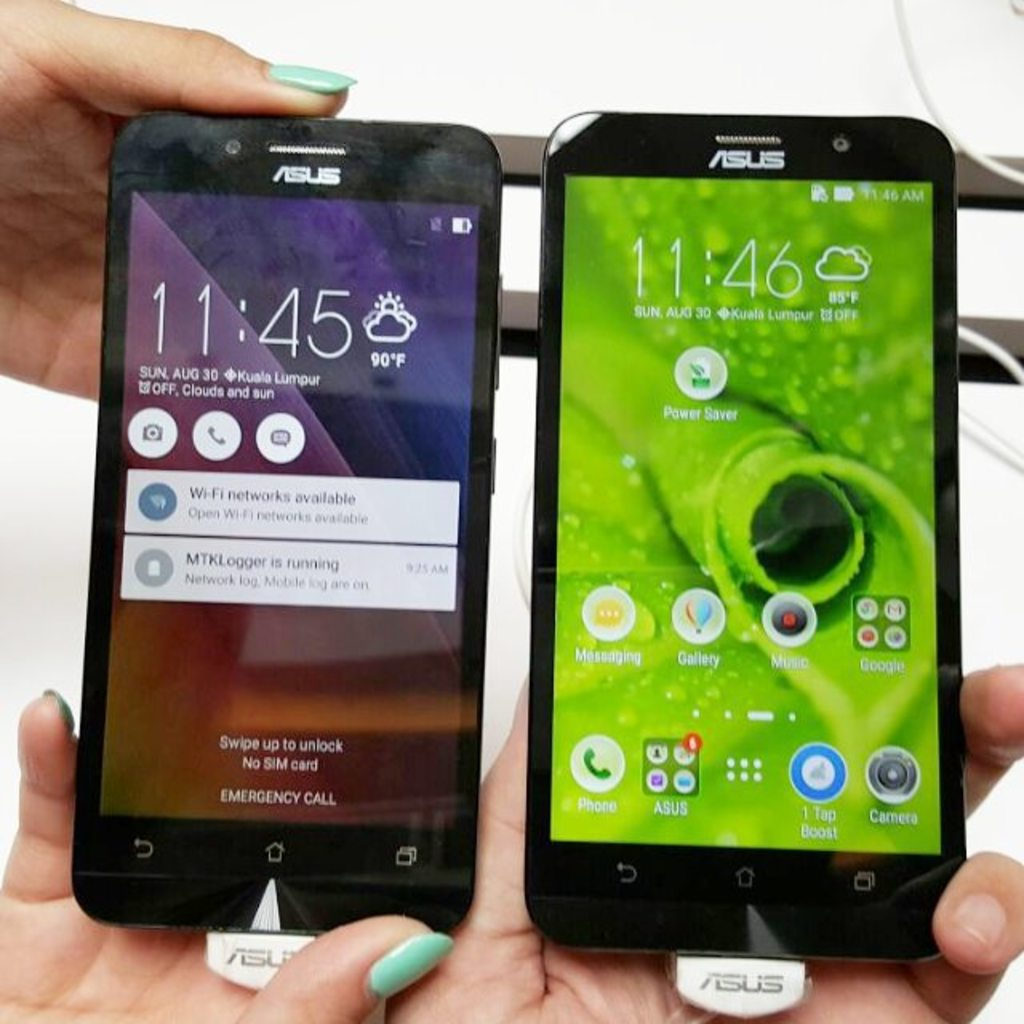Mobile-phone: (517, 107, 965, 966), (62, 104, 509, 933)
